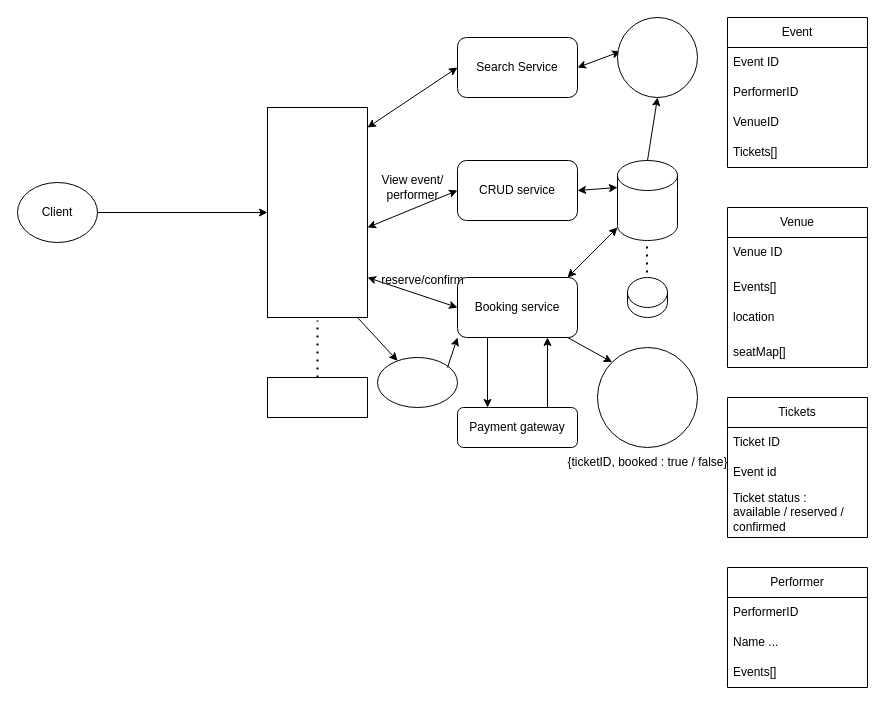
The diagram is 885 pixels wide and 705 high, and some of its shapes have lost their labels. The shapes that lost their labels are listed below. From the top down, each one's centre as x and y in pixels, then its label:
At point (657, 57): "ElasticSearch".
At point (317, 212): "API gateway / microservices".
At point (647, 200): "Postgres".
At point (417, 382): "Virtual waiting queue".
At point (647, 397): "Cache with TTL for booking confirmation".
